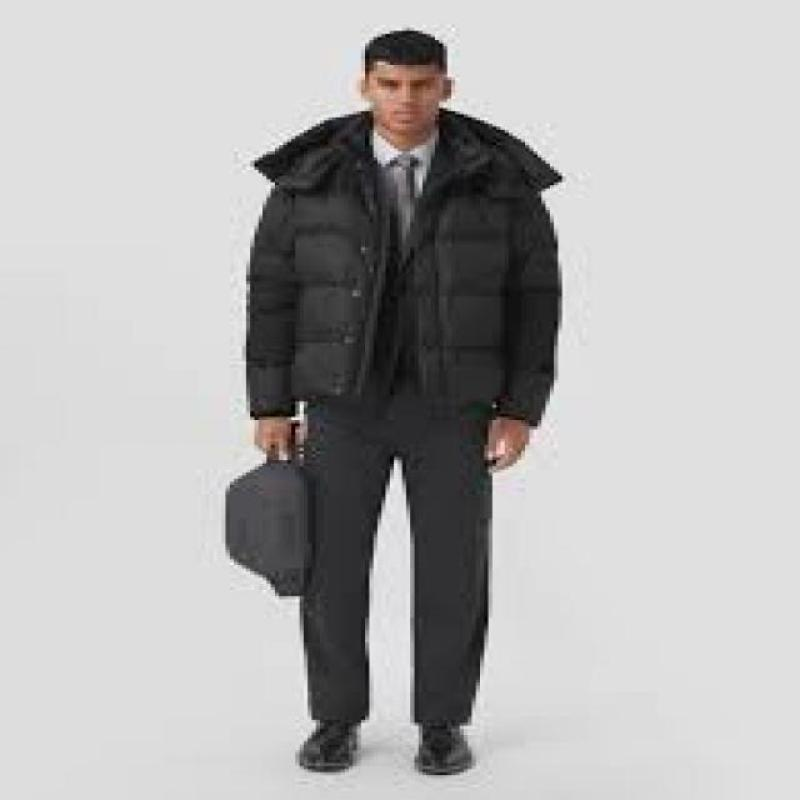coat: (240, 107, 569, 433)
trousers: (297, 407, 498, 731)
